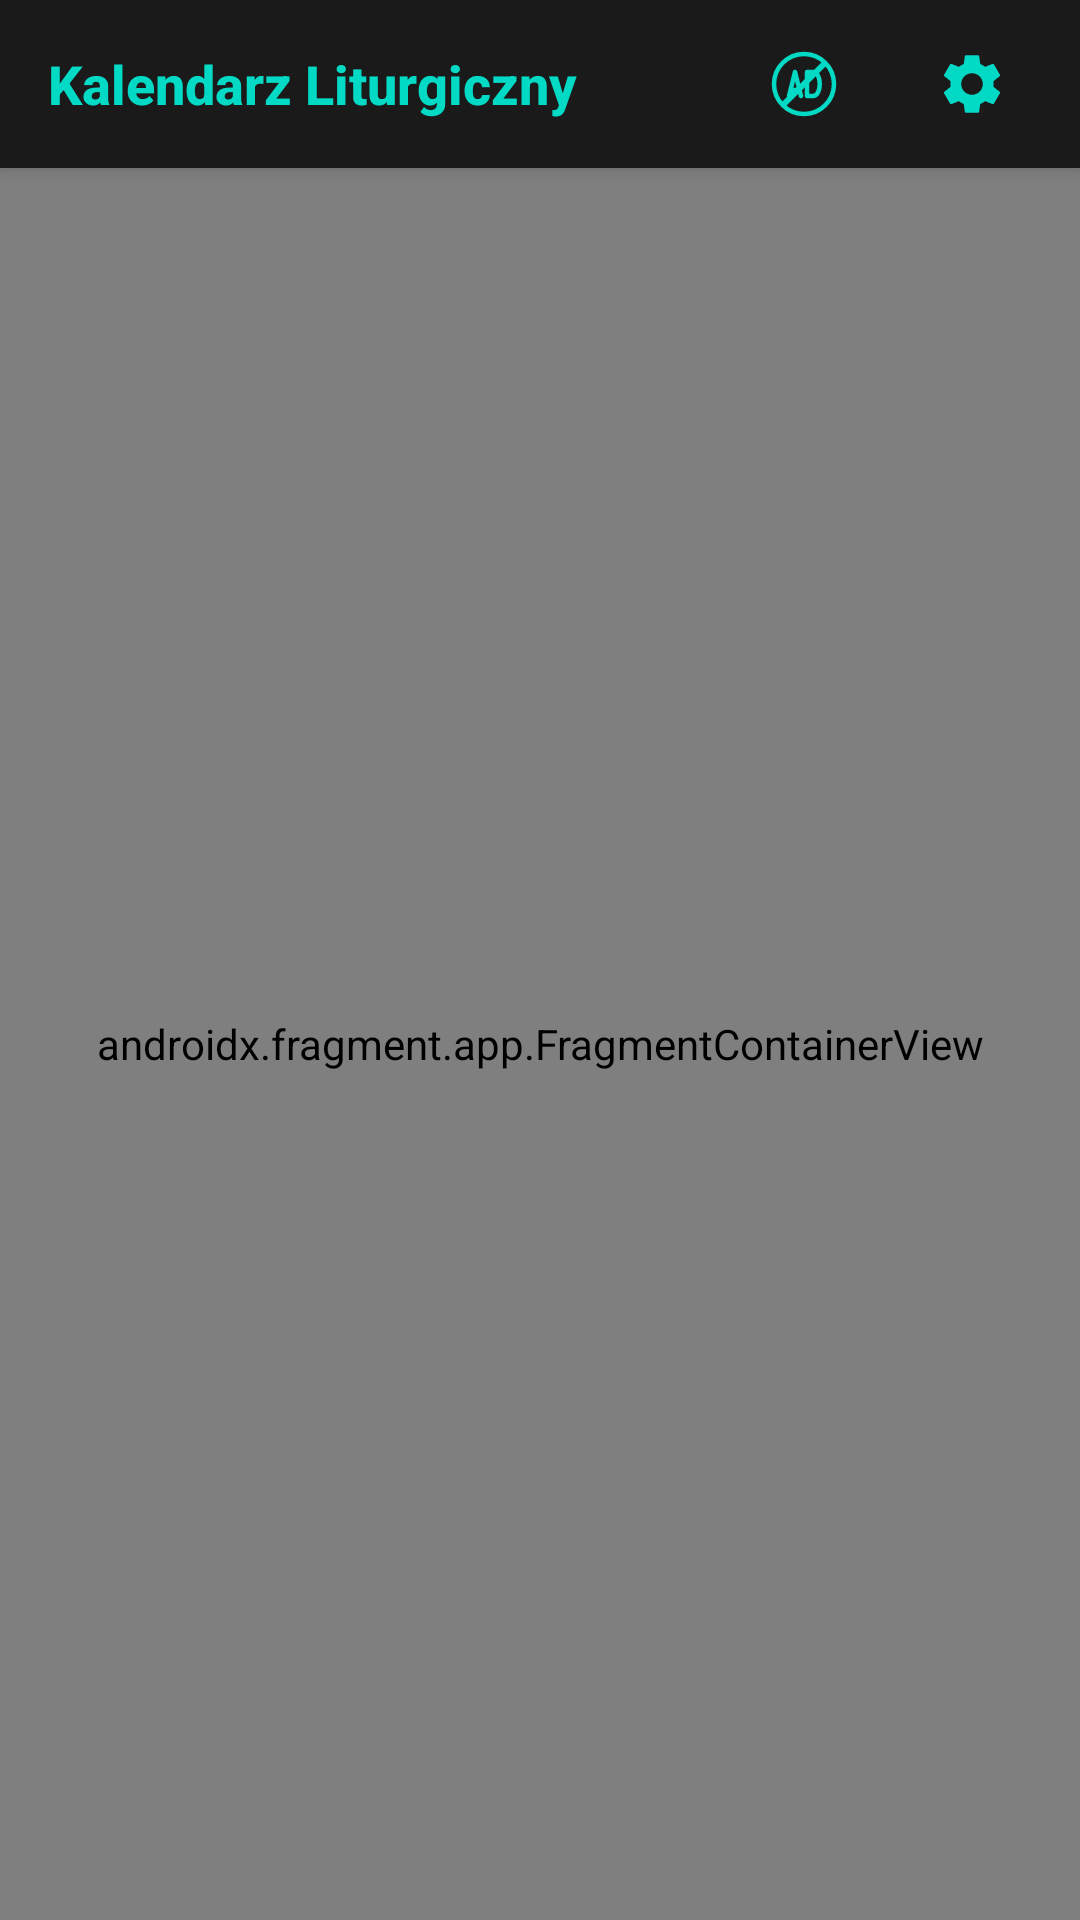

Named icons in this screenshot (1080 x 1920) and their centers, (x,y):
Ustawienia: (972,84)
Usuń reklamy: (804,84)
